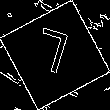L_S: (33, 26, 77, 84)
